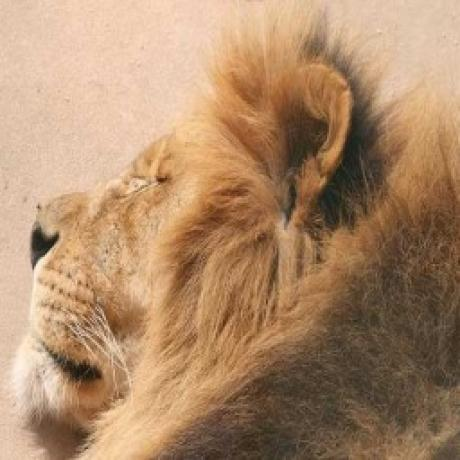Lion: (16, 3, 460, 460)
